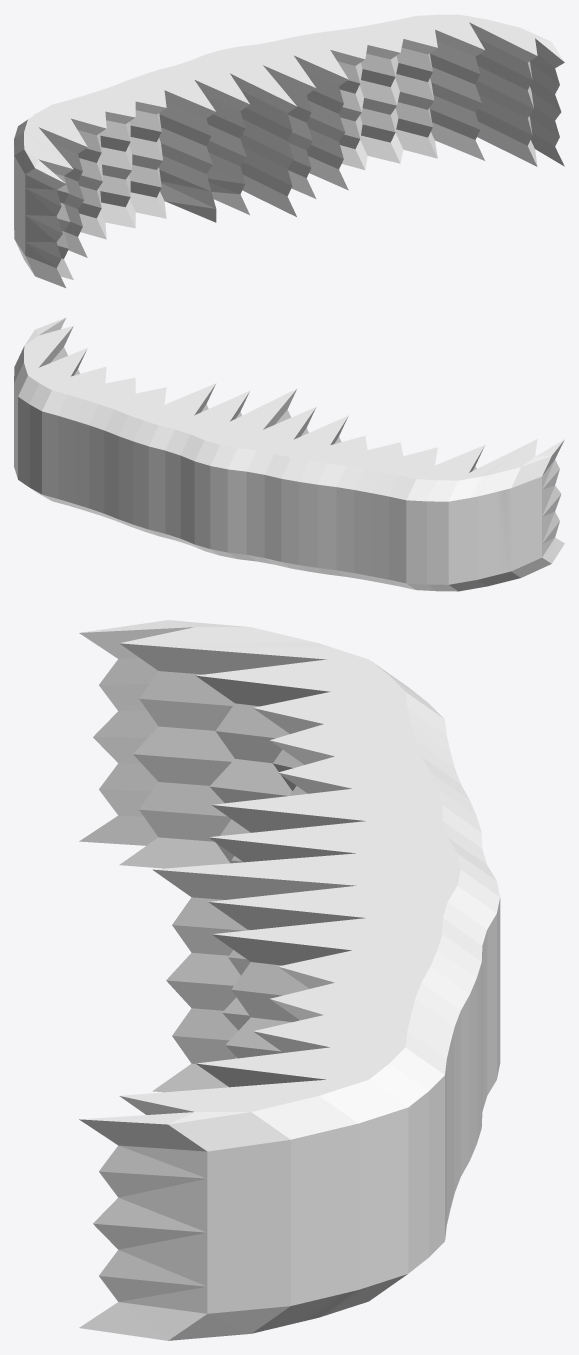
The model's file is ShortRangeSound.obj.
3 views of the same model, one above another, from view 1: azimuth 30°, elevation 25°; view 2: azimuth 150°, elevation 25°; view 3: azimuth 270°, elevation 25° (orthographic). The views are drawn at different scales.
Visible parts, largest first — view 1: Cube; view 2: Cube; view 3: Cube.
Boxes of the visible parts, box(x1,y1,x2,y2) form: Cube: box(14, 14, 564, 287); Cube: box(14, 318, 564, 591); Cube: box(79, 620, 500, 1340).
Bounding box in the file's own units: 9.75 × 2 × 3.44.
1 material, 1 textured.
